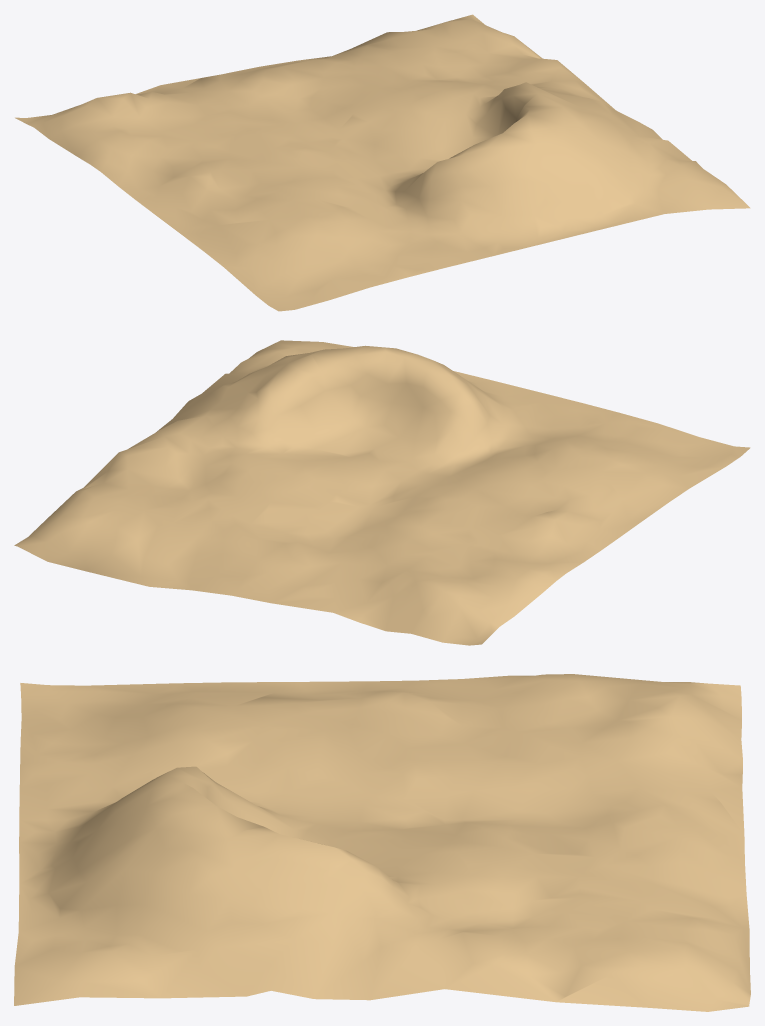
File: Sand.fbx
3 renders of one model, top to bottom at view 1: azimuth 30°, elevation 25°; view 2: azimuth 150°, elevation 25°; view 3: azimuth 270°, elevation 25°, orthographic. The views are drawn at different scales.
Visible parts, largest first — view 1: Terrain_2; view 2: Terrain_2; view 3: Terrain_2.
Part boxes in pixels (left/top/right/bottom): Terrain_2: left=15, top=14, right=750, bottom=311; Terrain_2: left=14, top=340, right=750, bottom=645; Terrain_2: left=14, top=674, right=750, bottom=1011.
Size of the model in its own units: 2038 by 372 by 2047.
